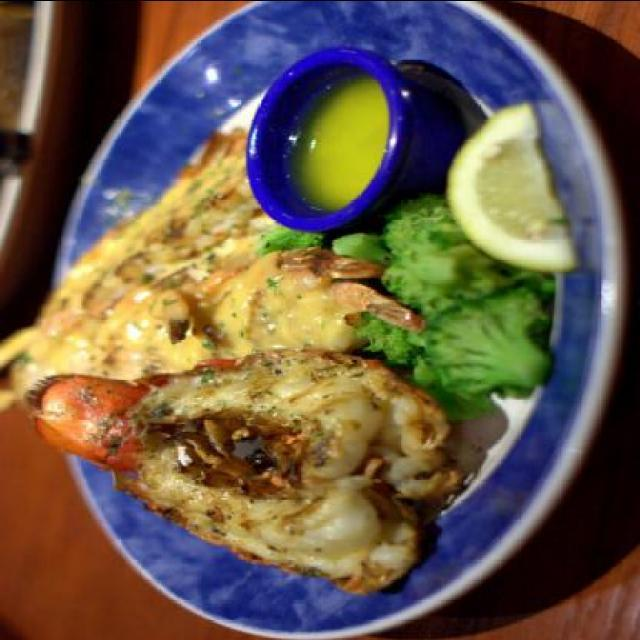Broccoli: (382, 193, 553, 309), (330, 225, 448, 366), (424, 280, 558, 402)
